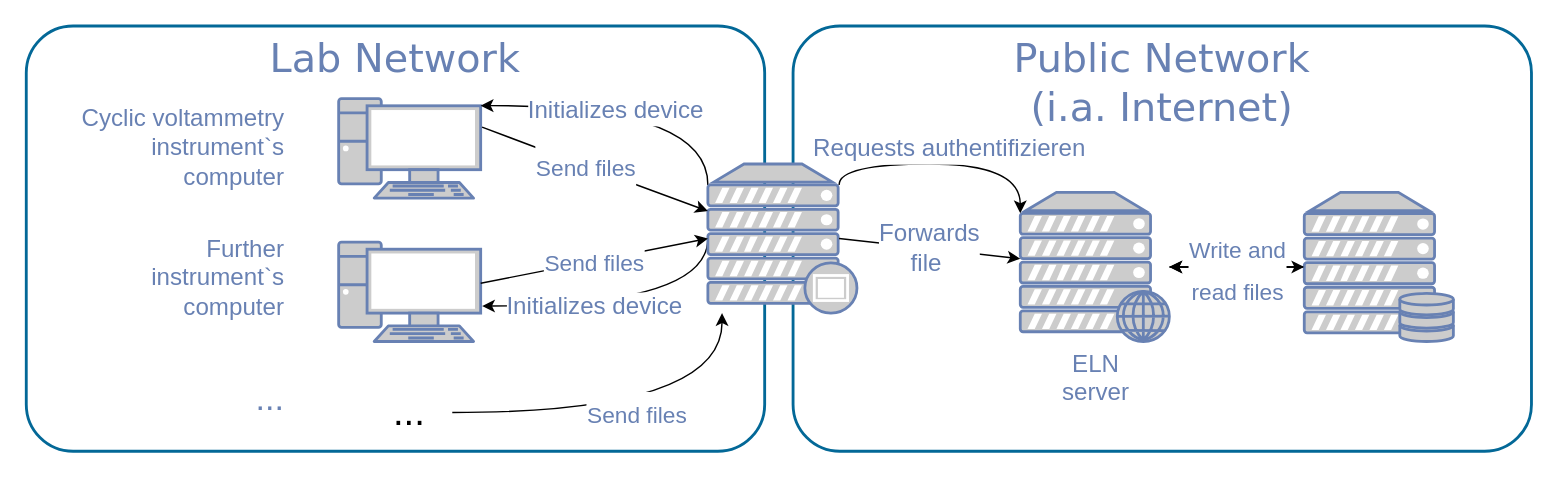
This 1556x477 diagram has some shape labels left out. The centre of each missing label's shape, as x and y in pixels:
Data storage server: the point at 1378,266
ELN file transfer manager: the point at 782,238
